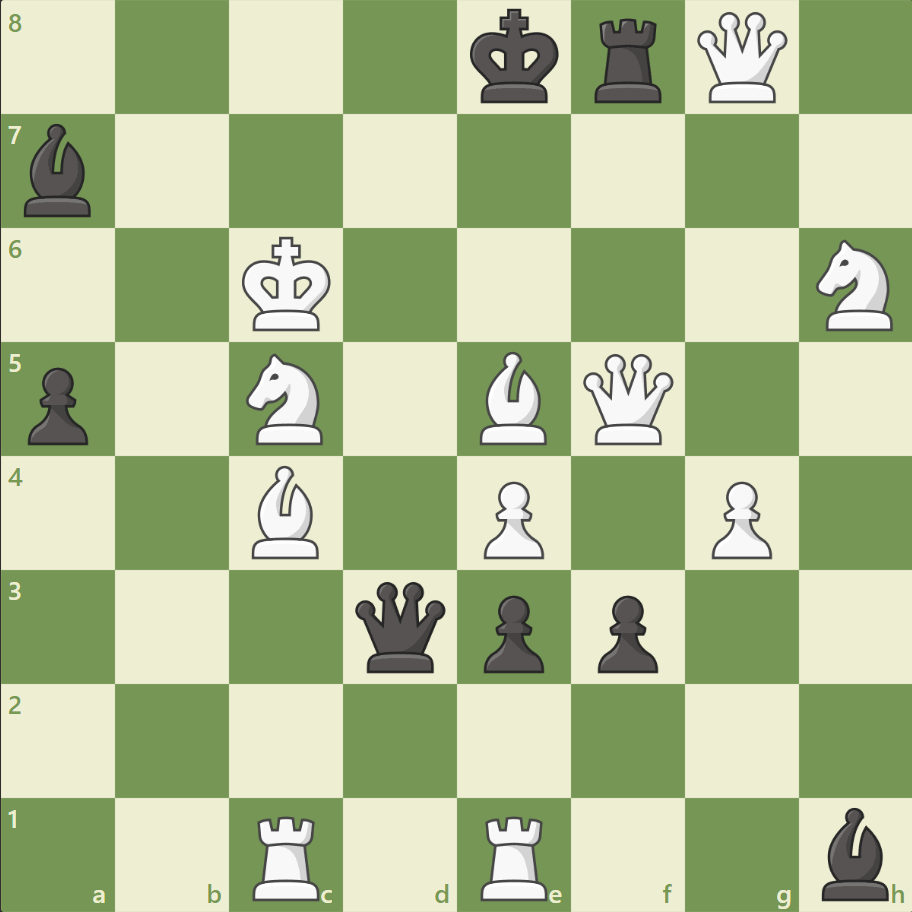B: (244, 460, 328, 563), (471, 347, 555, 449)
K: (238, 231, 338, 339)
N: (806, 234, 903, 337), (238, 348, 335, 450)
P: (474, 473, 549, 564), (701, 473, 776, 564)
Q: (578, 349, 677, 449), (691, 9, 790, 108)
R: (246, 806, 329, 904), (473, 806, 556, 904)
b: (812, 801, 896, 904), (17, 120, 101, 222)
k: (465, 4, 565, 112)
p: (20, 359, 95, 450), (474, 586, 549, 677), (588, 586, 662, 677)
q: (351, 576, 450, 676)
r: (587, 12, 670, 109)
